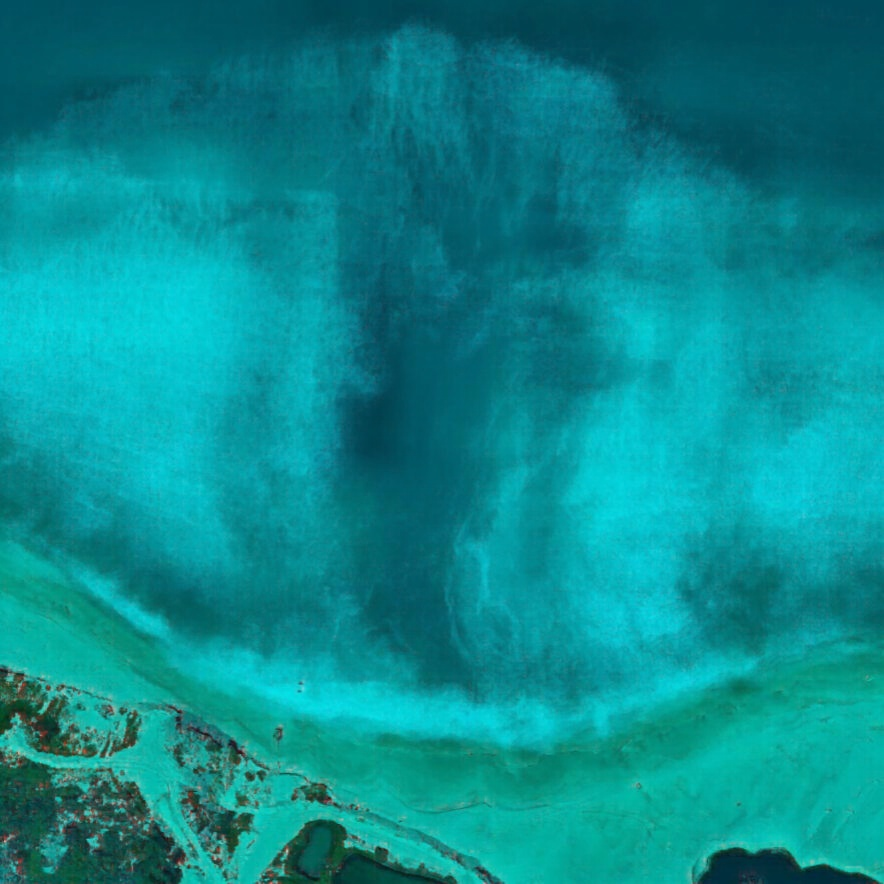rip_current: (271, 62, 634, 694)
